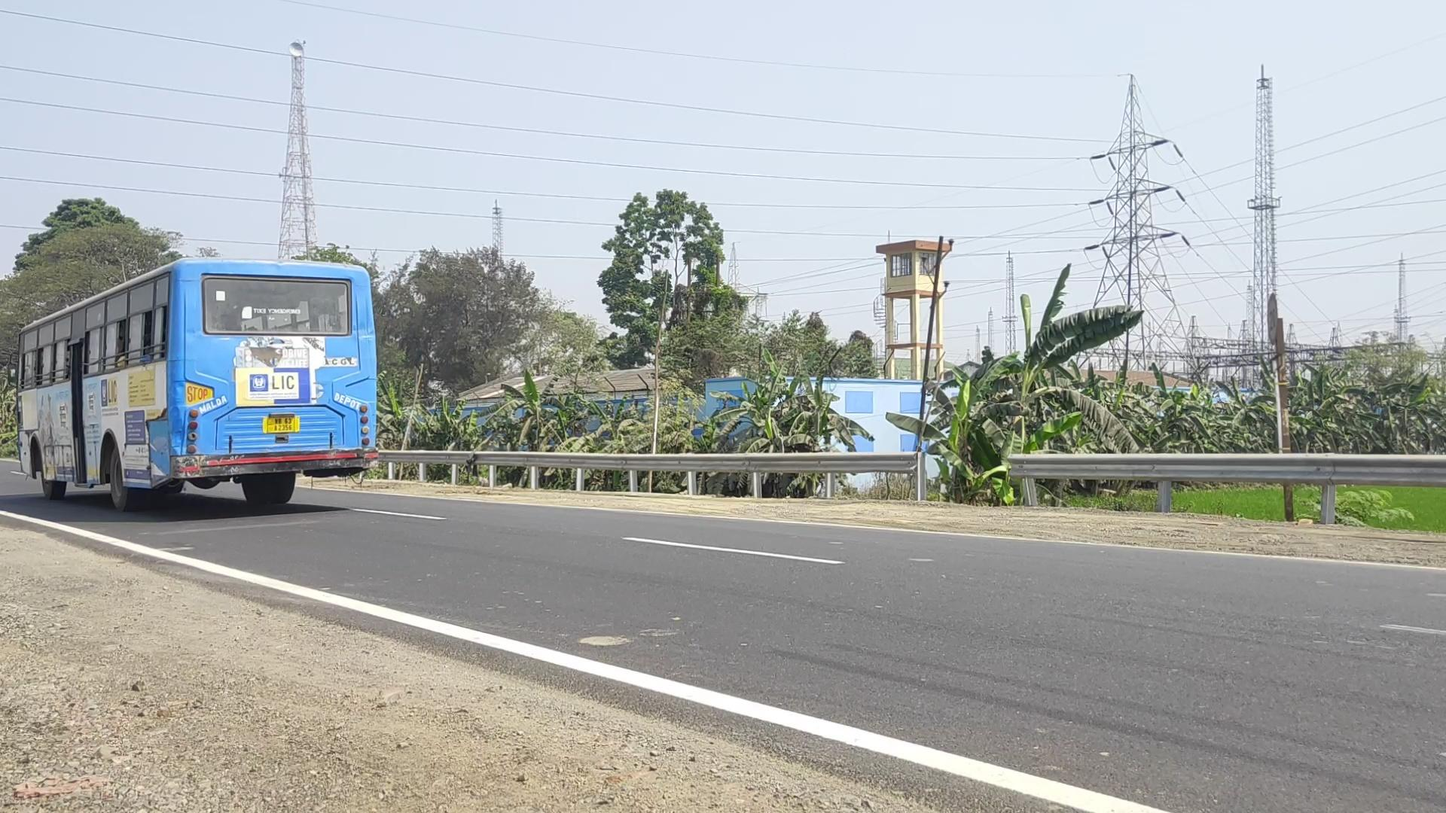Bus: (8, 255, 378, 512)
